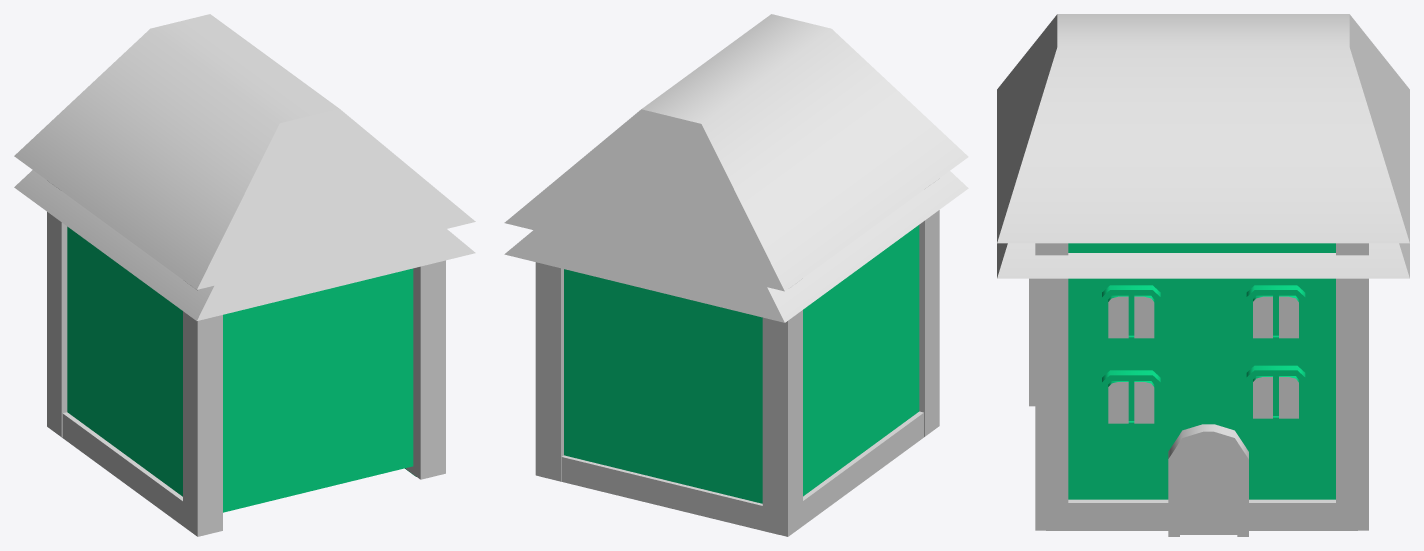
File: housetype2.fbx
3 views of the same model, side by side, from view 1: azimuth 30°, elevation 25°; view 2: azimuth 150°, elevation 25°; view 3: azimuth 270°, elevation 25° (orthographic). The views are drawn at different scales.
Visible parts, largest first — view 1: Cube.063; view 2: Cube.063; view 3: Cube.063.
Part boxes in pixels (box(x1,y1,x2,y2)): Cube.063: box(14, 14, 475, 536); Cube.063: box(504, 14, 968, 536); Cube.063: box(997, 14, 1409, 536).
Bounding box in the file's own units: 2.34 × 3.07 × 2.66.
